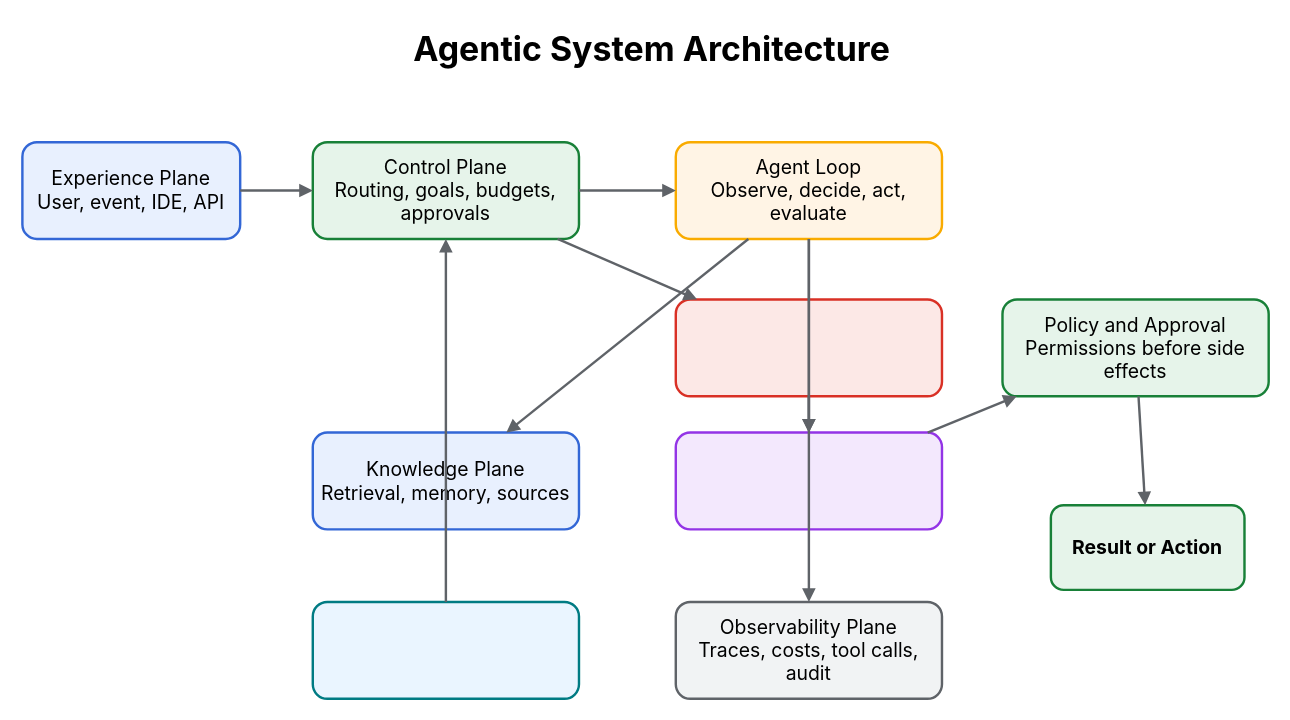
This 1290x720 diagram has some shape labels left out. Here are the shapes that lost their labels. From the top down, the box of each, then its label:
(674, 298, 943, 397): Durable Workflow Retries, checkpoints, compensation
(674, 431, 943, 530): Execution Plane Tools, APIs, code, browser
(311, 600, 580, 699): Evaluation Plane Verifiers, evals, regression data
